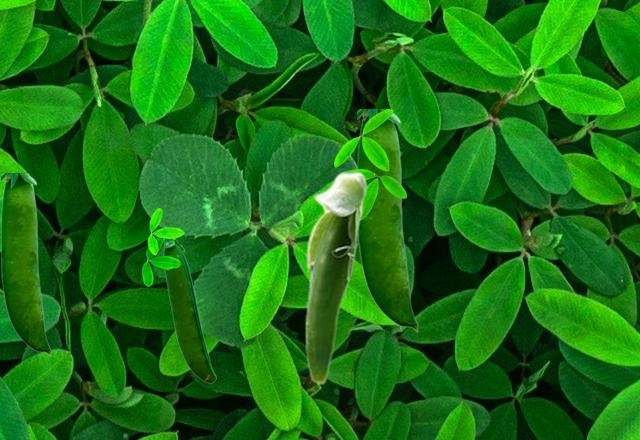pea: (304, 171, 367, 384), (357, 109, 417, 331), (1, 173, 50, 355), (163, 226, 215, 382)
